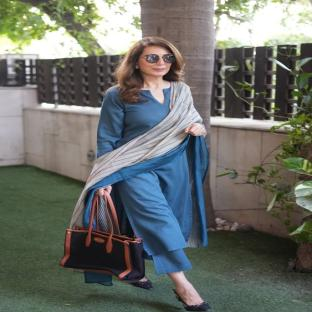Human: (70, 37, 209, 311), (133, 278, 152, 289)
